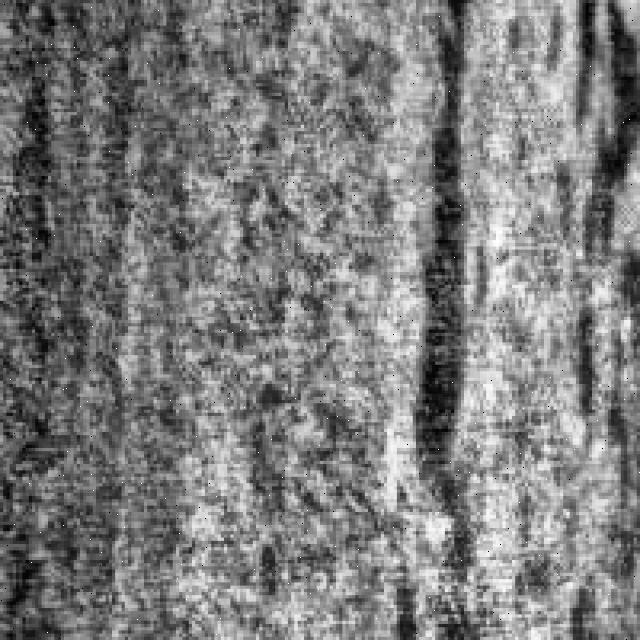Patches: (403, 0, 483, 570), (550, 0, 634, 288), (560, 255, 611, 470)
